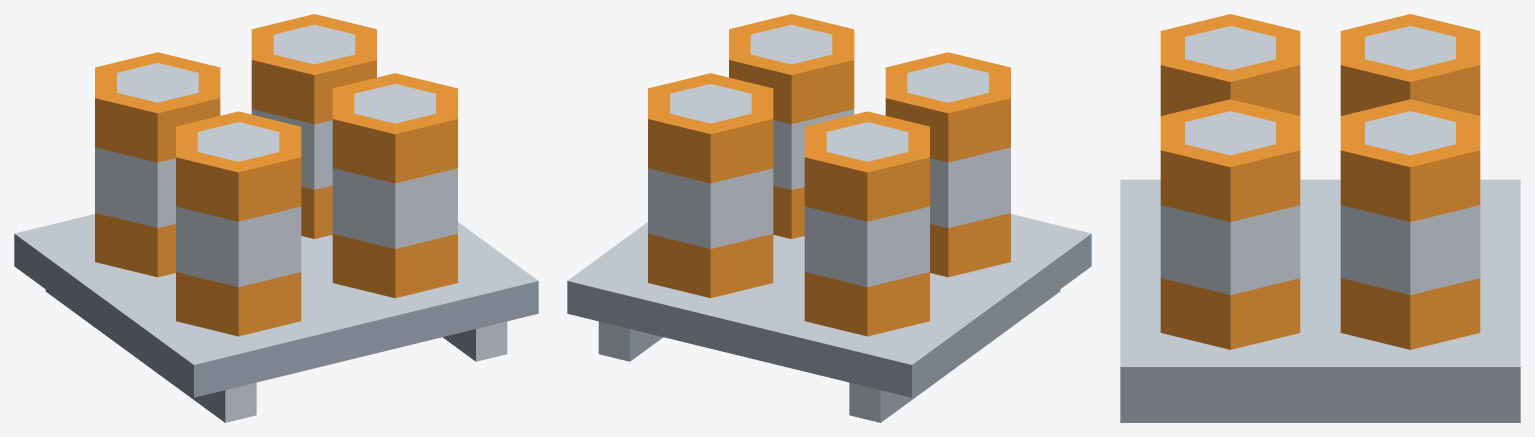
The model's file is barrels.glb.
The picture shows the model from 3 angles, left to right: view 1: azimuth 30°, elevation 25°; view 2: azimuth 150°, elevation 25°; view 3: azimuth 270°, elevation 25°; orthographic projection. The views are drawn at different scales.
Visible parts, largest first — view 1: barrel (×4), barrels; view 2: barrel (×4), barrels; view 3: barrel (×4), barrels.
Part boxes in pixels (x1,y1,x2,y2): barrel (×4): (95, 14, 457, 336); barrels: (14, 214, 538, 422); barrel (×4): (648, 14, 1010, 336); barrels: (567, 214, 1091, 422); barrel (×4): (1160, 14, 1480, 349); barrels: (1120, 179, 1520, 422).
Bounding box in the file's own units: 0.55 × 0.35 × 0.4964.
